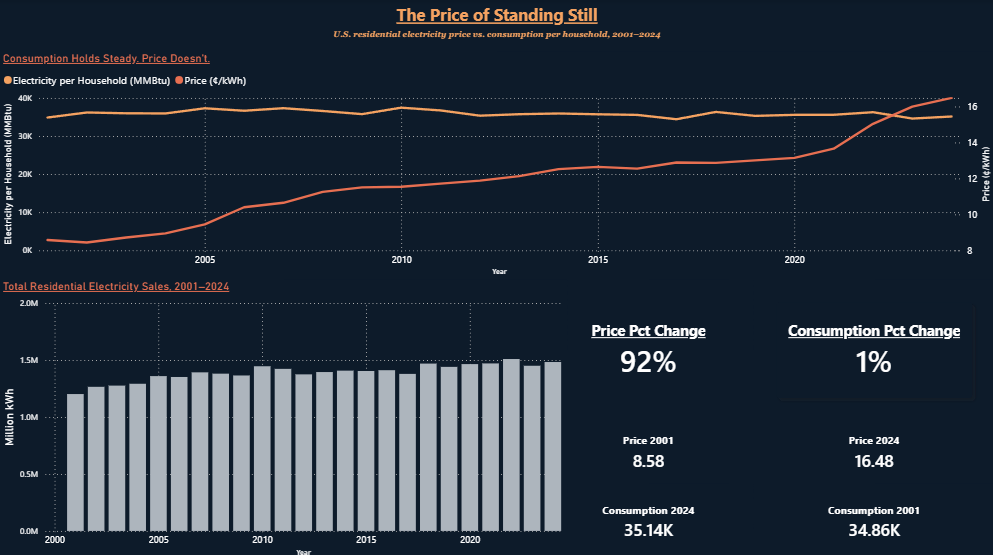

Layout of this report page (visuals, bound fields, positions):
{"tool":"powerbi","page":{"name":"Page Paying More for Less","canvas":[1280,720],"ordinal":1},"visuals":[{"type":"lineChart","title":"Consumption Holds Steady. Price Doesn''t.","fields":{"Y":["Sum(energy_consumption_final.electricity_mmbtu_per_household)"],"Category":["energy_consumption_final.year"],"Y2":["Sum(energy_consumption_final.price_cents_per_kwh)"]},"box":[0,67.4,1279.4,292.9],"z":0},{"type":"columnChart","title":"Total Residential Electricity Sales, 2001–2024","fields":{"Category":["energy_consumption_final.year"],"Y":["Sum(energy_consumption_final.sales_million_kwh)"]},"box":[0,360.3,730.2,360.3],"z":1000},{"type":"cardVisual","fields":{"Data":["energy_consumption_final.Price 2001"]},"box":[730.2,541.4,208.1,80.9],"z":2000},{"type":"cardVisual","fields":{"Data":["energy_consumption_final.Price 2024"]},"box":[969.2,541.4,310.2,80.9],"z":3000},{"type":"cardVisual","fields":{"Data":["energy_consumption_final.Price Pct Change"]},"box":[730.2,360.3,208.1,181.1],"z":4000},{"type":"cardVisual","fields":{"Data":["energy_consumption_final.Consumption 2001"]},"box":[969.2,622.3,310.2,98.3],"z":5000},{"type":"cardVisual","fields":{"Data":["energy_consumption_final.Consumption Pct Change"]},"box":[969.2,360.3,310.2,181.1],"z":6000},{"type":"cardVisual","fields":{"Data":["energy_consumption_final.Consumption 2024"]},"box":[730.2,622.3,208.1,98.3],"z":7000},{"type":"textbox","box":[0,0,1279.4,67.4],"z":8000}]}

Visuals, with their boxes in screenshot pixels (x1, y1, x2, y2), scaled from the page's 1280x720 canvas onto the 993x555 screenshot:
"Consumption Holds Steady. Price Doesn''t." lineChart: left=0, top=52, right=992, bottom=278
"Total Residential Electricity Sales, 2001–2024" columnChart: left=0, top=278, right=566, bottom=554
cardVisual - energy_consumption_final.Price 2001: left=566, top=417, right=728, bottom=480
cardVisual - energy_consumption_final.Price 2024: left=752, top=417, right=992, bottom=480
cardVisual - energy_consumption_final.Price Pct Change: left=566, top=278, right=728, bottom=417
cardVisual - energy_consumption_final.Consumption 2001: left=752, top=480, right=992, bottom=554
cardVisual - energy_consumption_final.Consumption Pct Change: left=752, top=278, right=992, bottom=417
cardVisual - energy_consumption_final.Consumption 2024: left=566, top=480, right=728, bottom=554
textbox: left=0, top=0, right=992, bottom=52
